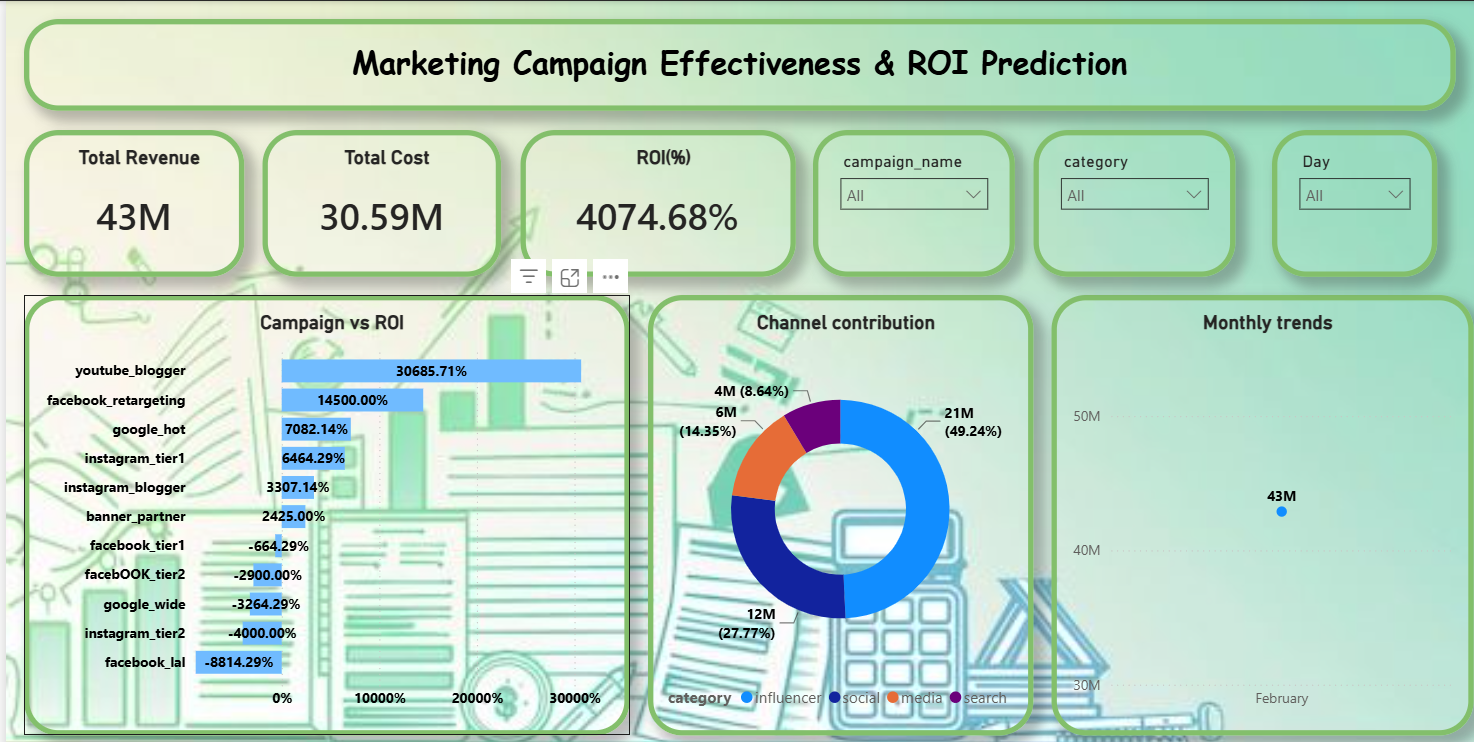

This screenshot's page, from the dashboard's own definition file:
{"tool":"powerbi","page":{"name":"Dashboard","canvas":[1280,720],"ordinal":0},"visuals":[{"type":"textbox","box":[16,16,1248,80],"z":0},{"type":"cardVisual","title":"Total Revenue","fields":{"Data":["Sum(Marketing.revenue)"]},"box":[16,112,192,128],"z":1000},{"type":"cardVisual","title":"Total Cost","fields":{"Data":["Sum(Marketing.marketing_spent)"]},"box":[224,112,208,128],"z":2000},{"type":"cardVisual","title":"ROI(%)","fields":{"Data":["Avg(Marketing.ROI(%))"]},"box":[448,112,240,128],"z":3000},{"type":"clusteredBarChart","title":"Campaign vs ROI","fields":{"Category":["Marketing.campaign_name"],"Y":["Avg(Marketing.ROI(%))"]},"box":[16,256,528,384],"z":4000},{"type":"donutChart","title":"Channel contribution","fields":{"Category":["Marketing.category"],"Y":["Sum(Marketing.revenue)"]},"box":[560,256,336,384],"z":5000},{"type":"lineChart","title":"Monthly trends","fields":{"Category":["Marketing.campaign_date.Variation.Date Hierarchy.Month"],"Y":["Sum(Marketing.revenue)"]},"box":[912,256,368,384],"z":6000},{"type":"slicer","fields":{"Values":["Marketing.campaign_name"]},"box":[704,112,176,128],"z":7000},{"type":"slicer","fields":{"Values":["Marketing.category"]},"box":[896,112,176,128],"z":8000},{"type":"slicer","fields":{"Values":["Marketing.campaign_date.Variation.Date Hierarchy.Day"]},"box":[1104,112,144,128],"z":9000}]}

Visuals, with their boxes on the page's 1280x720 design canvas (x1, y1, x2, y2). These are canvas units, not pixel positions in the 1474x742 screenshot, which may show the page scaled, cropped or inside an application window:
textbox: {"x1": 16, "y1": 16, "x2": 1264, "y2": 96}
"Total Revenue" cardVisual: {"x1": 16, "y1": 112, "x2": 208, "y2": 240}
"Total Cost" cardVisual: {"x1": 224, "y1": 112, "x2": 432, "y2": 240}
"ROI(%)" cardVisual: {"x1": 448, "y1": 112, "x2": 688, "y2": 240}
"Campaign vs ROI" clusteredBarChart: {"x1": 16, "y1": 256, "x2": 544, "y2": 640}
"Channel contribution" donutChart: {"x1": 560, "y1": 256, "x2": 896, "y2": 640}
"Monthly trends" lineChart: {"x1": 912, "y1": 256, "x2": 1280, "y2": 640}
slicer - Marketing.campaign_name: {"x1": 704, "y1": 112, "x2": 880, "y2": 240}
slicer - Marketing.category: {"x1": 896, "y1": 112, "x2": 1072, "y2": 240}
slicer - Marketing.campaign_date.Variation.Date Hierarchy.Day: {"x1": 1104, "y1": 112, "x2": 1248, "y2": 240}
